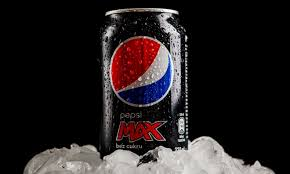can: (95, 1, 188, 156)
